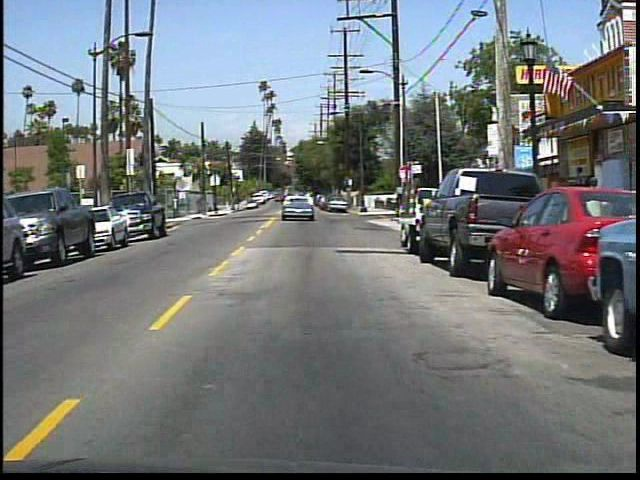person: (580, 172, 608, 243)
